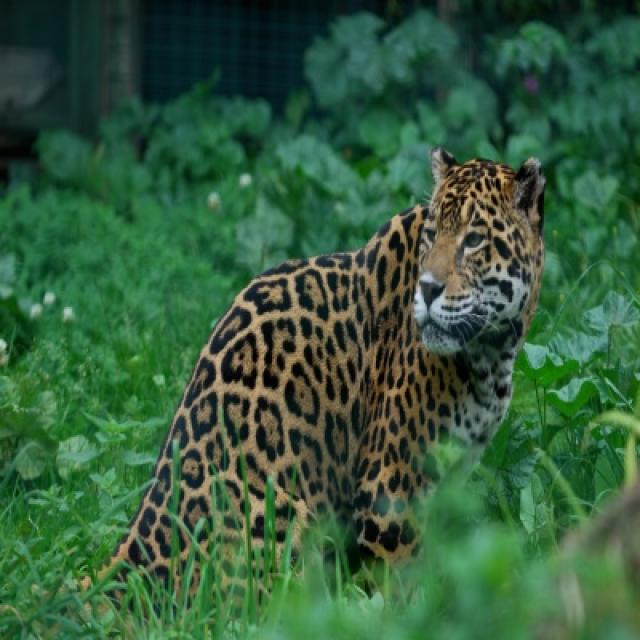Jaguar: (12, 120, 564, 638)
